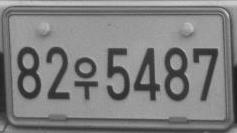2: (45, 45, 70, 100)
4: (132, 46, 160, 101)
5: (106, 47, 130, 100)
7: (192, 47, 218, 102)
8: (164, 46, 190, 101), (16, 45, 41, 99)
우: (73, 56, 98, 100)
